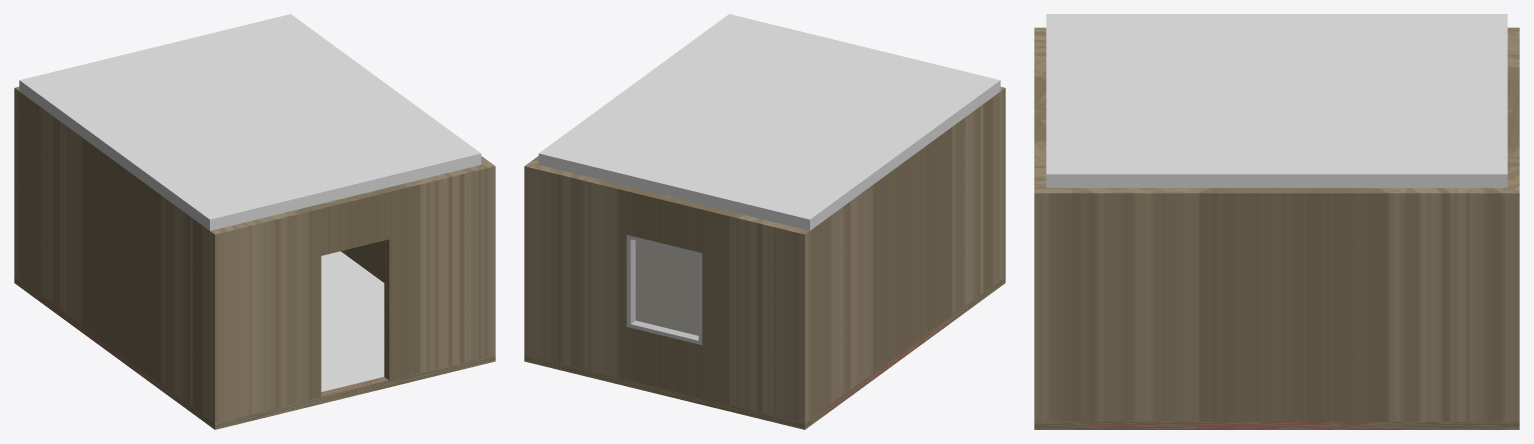
Rendered from walls.fbx.
The picture shows the model from 3 angles, left to right: view 1: azimuth 30°, elevation 25°; view 2: azimuth 150°, elevation 25°; view 3: azimuth 270°, elevation 25°; orthographic projection. The views are drawn at different scales.
Parts seen in each view (by area): view 1: walls; view 2: walls; view 3: walls.
Boxes of the visible parts, x1,y1,x2,y2 form: walls: (14,14,495,429); walls: (524,14,1005,429); walls: (1034,14,1519,429).
Bounding box in the file's own units: 420 × 296 × 520.
Materials: 5 (2 with a texture image).
